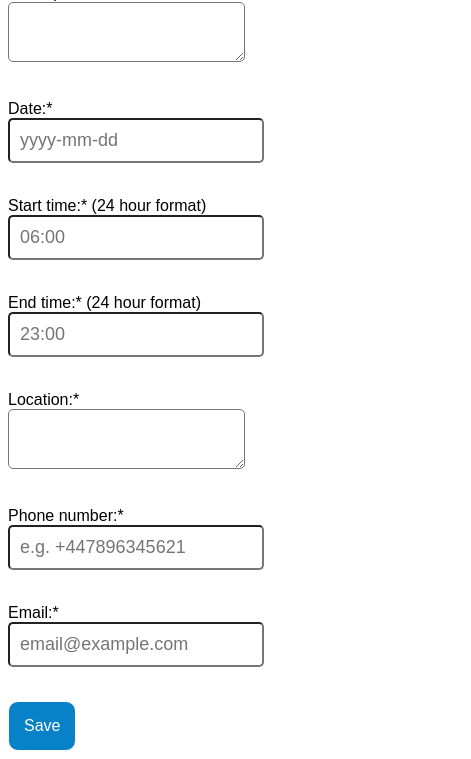
Test: CreateEventForm component › Phone number input validation › Phone number input must include a valid UK number
This screenshot has width=471, height=759.
(page scrolled)
Type "0785794228" into the field with test id "input-phone-number". click: (136, 547)
box: [8,525,264,570]
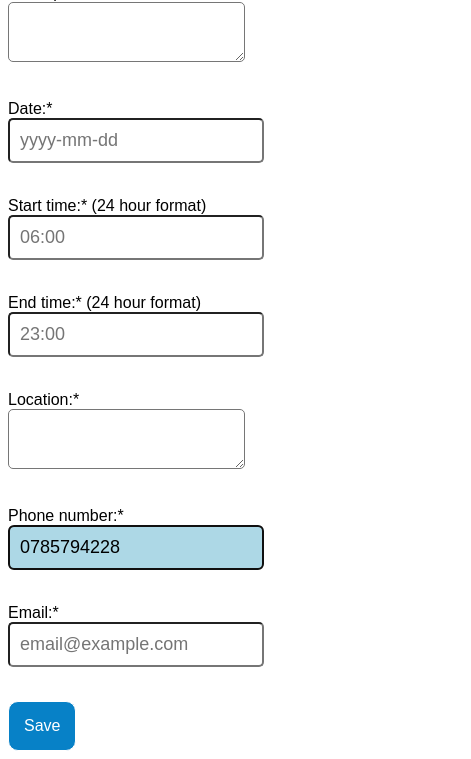
Click the button "Save". click: (42, 726)
box: [8,701,76,751]
(page scrolled)
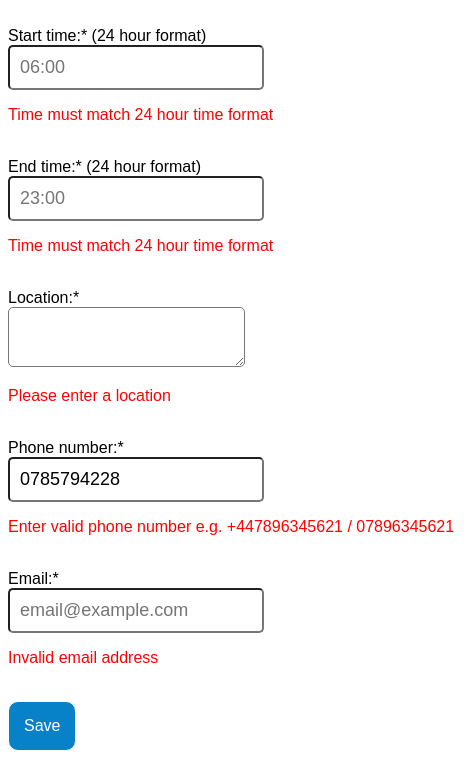
Check: the text "Enter valid phone number e.g. +447896345621 / 07896345621" is shown, box [8,518,454,535]
